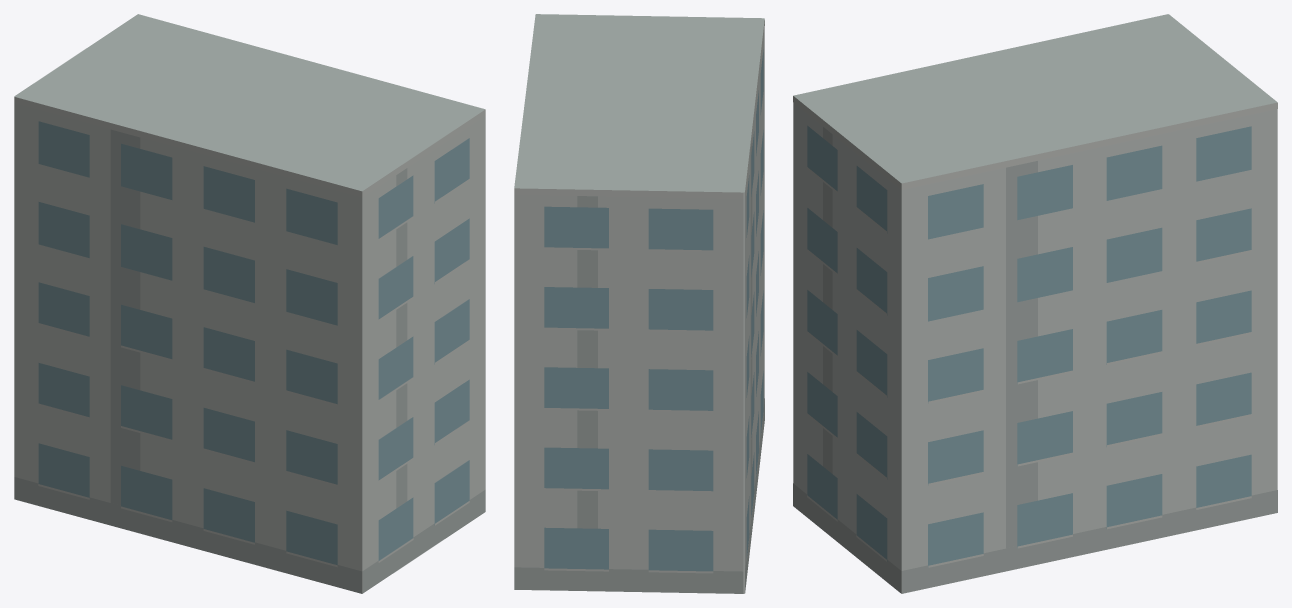
The model's file is survey-upis-32838340.glb.
3 views of the same model, side by side, from view 1: azimuth 30°, elevation 25°; view 2: azimuth 150°, elevation 25°; view 3: azimuth 270°, elevation 25° (orthographic). The views are drawn at different scales.
Visible parts, largest first — view 1: survey-upis-32838340.tmp; view 2: survey-upis-32838340.tmp; view 3: survey-upis-32838340.tmp.
Boxes of the visible parts, bbox=[...] form: survey-upis-32838340.tmp: bbox=[14, 14, 485, 593]; survey-upis-32838340.tmp: bbox=[514, 14, 764, 593]; survey-upis-32838340.tmp: bbox=[793, 14, 1277, 593].
Size of the model in its own units: 13.38 by 15.1 by 16.17.
